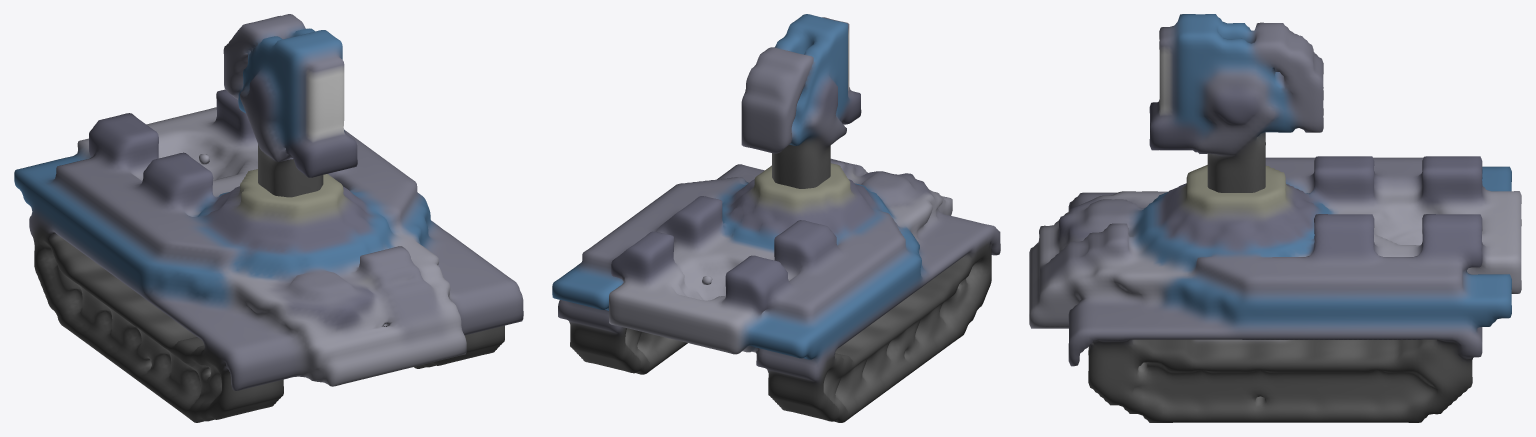
The model's file is sref.glb.
3 renders of one model, left to right at view 1: azimuth 30°, elevation 25°; view 2: azimuth 150°, elevation 25°; view 3: azimuth 270°, elevation 25°, orthographic. The views are drawn at different scales.
Visible parts, largest first — view 1: sref; view 2: sref; view 3: sref.
Boxes of the visible parts, bbox=[...] form: sref: bbox=[14, 14, 523, 422]; sref: bbox=[552, 14, 1000, 422]; sref: bbox=[1029, 14, 1521, 422].
Bounding box in the file's own units: 2.8 × 3.06 × 4.13.
